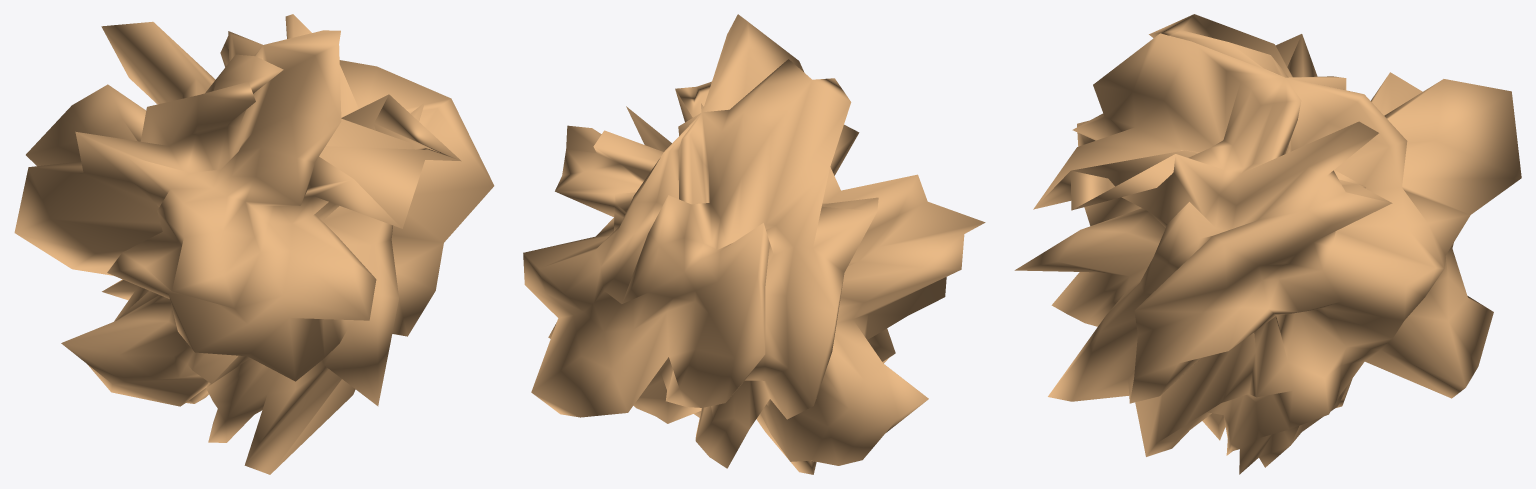
The model's file is Paper4.fbx.
3 renders of one model, left to right at view 1: azimuth 30°, elevation 25°; view 2: azimuth 150°, elevation 25°; view 3: azimuth 270°, elevation 25°, orthographic. The views are drawn at different scales.
Visible parts, largest first — view 1: Sphere.001; view 2: Sphere.001; view 3: Sphere.001.
Part boxes in pixels (x1,y1,x2,y2): Sphere.001: (14,14,494,474); Sphere.001: (523,14,985,474); Sphere.001: (1014,14,1521,474).
Bounding box in the file's own units: 98.27 × 105 × 104.
